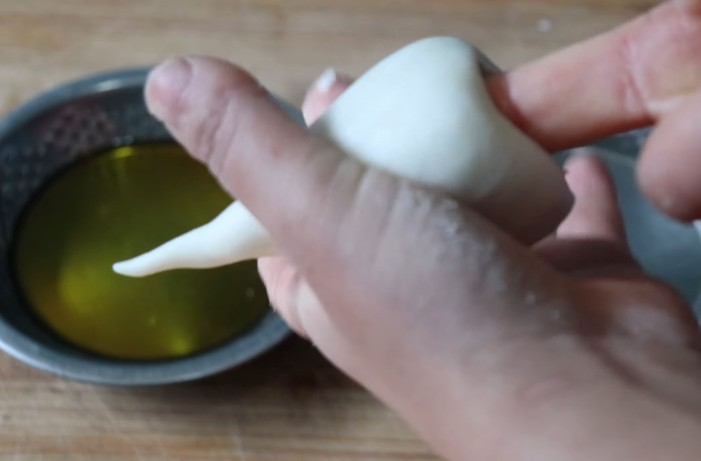yomari: (116, 43, 577, 282)
